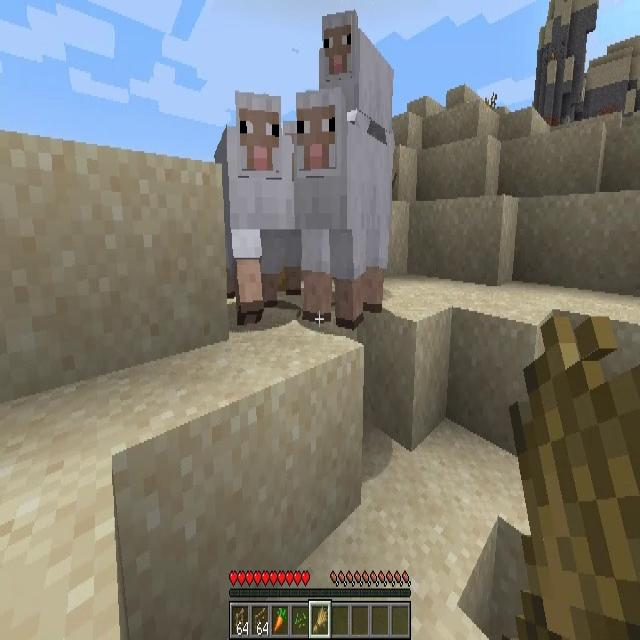sheep: (295, 88, 393, 327), (214, 92, 292, 326), (319, 12, 394, 149)
